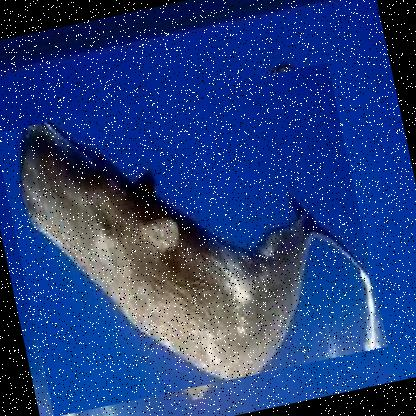sperm_whale: (0, 61, 388, 415)
